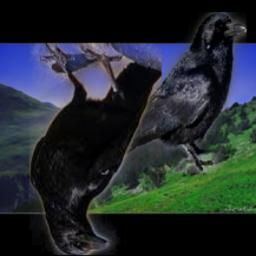Crow: (29, 44, 162, 256), (84, 12, 248, 173)
